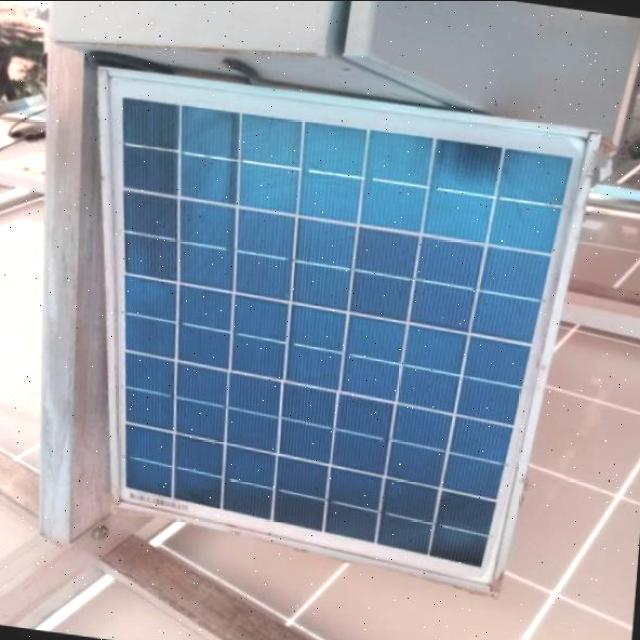Normal Solar Panel: (69, 72, 596, 604)
